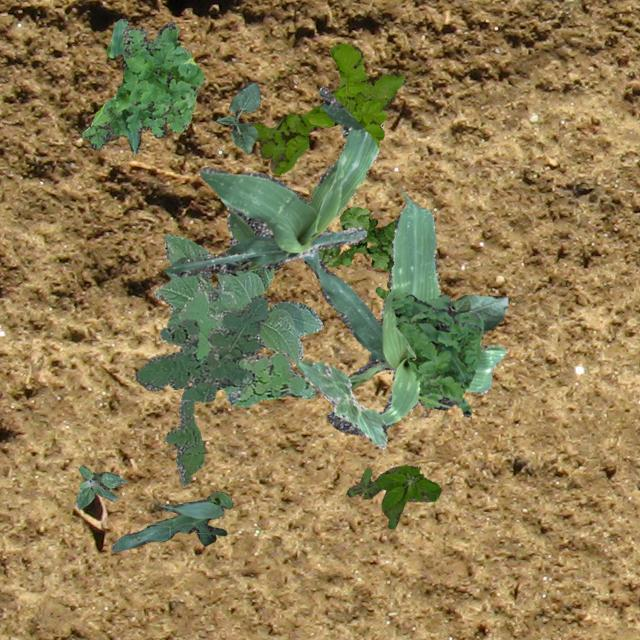crop: (300, 192, 507, 434), (164, 85, 378, 278), (154, 232, 322, 366), (297, 359, 387, 448), (110, 491, 232, 552), (214, 80, 260, 154), (448, 294, 508, 332)
weed: (134, 294, 268, 484), (248, 43, 404, 174), (81, 18, 202, 152), (178, 290, 316, 406), (390, 292, 482, 416), (316, 204, 396, 298), (346, 464, 440, 528), (76, 464, 126, 508)
